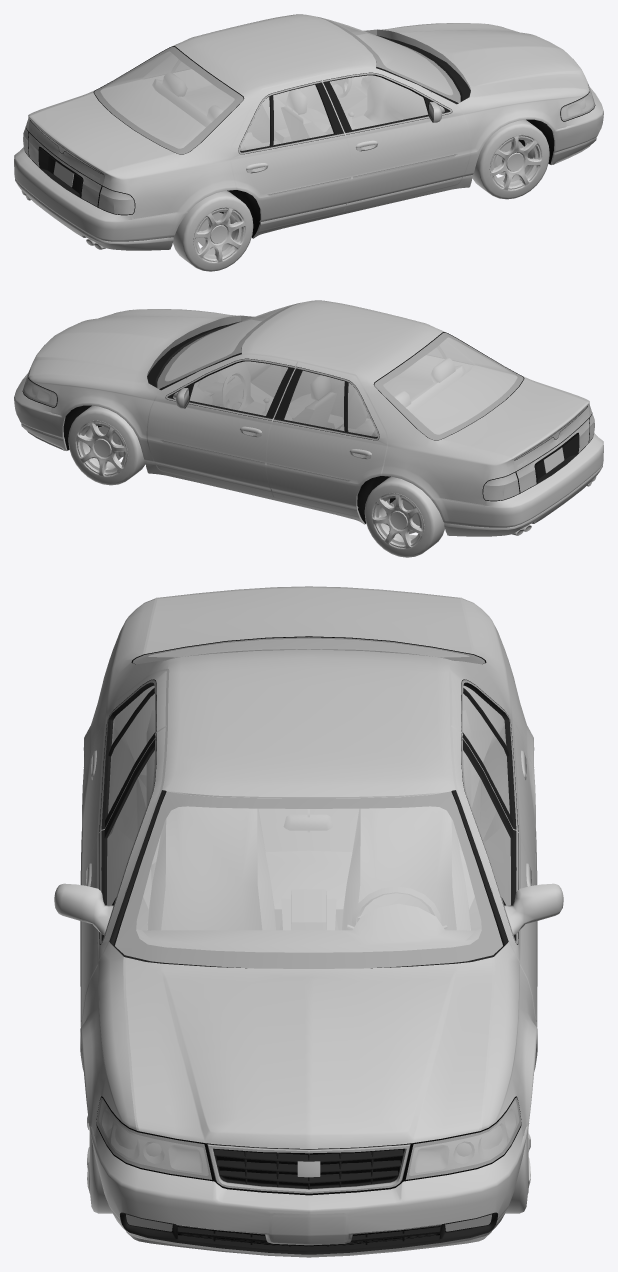
Rendered from Carter98.fbx.
3 views of the same model, one above another, from view 1: azimuth 30°, elevation 25°; view 2: azimuth 150°, elevation 25°; view 3: azimuth 270°, elevation 25° (orthographic). The views are drawn at different scales.
Visible parts, largest first — view 1: Carter98_Body, Carter98_Interior, Carter98_Bottom, Carter98_Glass_Rear, Carter98_Hood, Carter98_Bumper_Rear, Carter98_WhellStock_RR, Carter98_WhellStock_FR, Carter98_Body_Glass, Carter98_Glass_Passenger, Carter98_Windshield, Carter98_Trim (+4 smaller); view 2: Carter98_Body, Carter98_Interior, Carter98_Bottom, Carter98_Glass_Rear, Carter98_Hood, Carter98_Bumper_Rear, Carter98_WhellStock_RL, Carter98_WhellStock_FL, Carter98_Body_Glass, Carter98_Glass_Driver, Carter98_Windshield, Carter98_Trim (+5 smaller); view 3: Carter98_Body, Carter98_Hood, Carter98_Windshield, Carter98_Interior, Carter98_Bottom, Carter98_Bumper_Front, Carter98_Headlights_Glass, Carter98_Bumper_Front_Inner, Carter98_Body_Glass, Carter98_Glass_Rear, Carter98_Trim, Carter98_Glass_Driver (+4 smaller).
Part boxes in pixels (x1=…): Carter98_Body: x1=26, y1=14, x2=589, y2=238; Carter98_Interior: x1=101, y1=22, x2=452, y2=150; Carter98_Bottom: x1=21, y1=18, x2=595, y2=249; Carter98_Glass_Rear: x1=94, y1=46, x2=243, y2=154; Carter98_Hood: x1=377, y1=23, x2=589, y2=96; Carter98_Bumper_Rear: x1=14, y1=147, x2=186, y2=250; Carter98_WhellStock_RR: x1=173, y1=190, x2=253, y2=271; Carter98_WhellStock_FR: x1=472, y1=119, x2=549, y2=199; Carter98_Body_Glass: x1=143, y1=54, x2=333, y2=150; Carter98_Glass_Passenger: x1=330, y1=75, x2=428, y2=129; Carter98_Windshield: x1=317, y1=16, x2=460, y2=102; Carter98_Trim: x1=28, y1=14, x2=589, y2=231; Carter98_Body: x1=28, y1=300, x2=591, y2=524; Carter98_Interior: x1=165, y1=308, x2=516, y2=436; Carter98_Bottom: x1=22, y1=304, x2=596, y2=535; Carter98_Glass_Rear: x1=374, y1=332, x2=523, y2=440; Carter98_Hood: x1=28, y1=309, x2=240, y2=382; Carter98_Bumper_Rear: x1=431, y1=433, x2=603, y2=536; Carter98_WhellStock_RL: x1=364, y1=476, x2=444, y2=557; Carter98_WhellStock_FL: x1=68, y1=405, x2=145, y2=485; Carter98_Body_Glass: x1=284, y1=340, x2=474, y2=436; Carter98_Glass_Driver: x1=189, y1=361, x2=287, y2=415; Carter98_Windshield: x1=157, y1=302, x2=300, y2=388; Carter98_Trim: x1=28, y1=300, x2=589, y2=517; Carter98_Body: x1=54, y1=586, x2=563, y2=1132; Carter98_Hood: x1=124, y1=957, x2=493, y2=1148; Carter98_Windshield: x1=115, y1=791, x2=502, y2=968; Carter98_Interior: x1=107, y1=639, x2=510, y2=951; Carter98_Bottom: x1=80, y1=636, x2=537, y2=1195; Carter98_Bumper_Front: x1=89, y1=1125, x2=528, y2=1257; Carter98_Headlights_Glass: x1=96, y1=1097, x2=521, y2=1179; Carter98_Bumper_Front_Inner: x1=120, y1=1212, x2=497, y2=1254; Carter98_Body_Glass: x1=108, y1=685, x2=509, y2=813; Carter98_Glass_Rear: x1=132, y1=637, x2=485, y2=664; Carter98_Trim: x1=82, y1=597, x2=535, y2=1135; Carter98_Glass_Driver: x1=463, y1=750, x2=510, y2=905.
Bounding box in the file's own units: 5.02 × 1.42 × 2.09.
